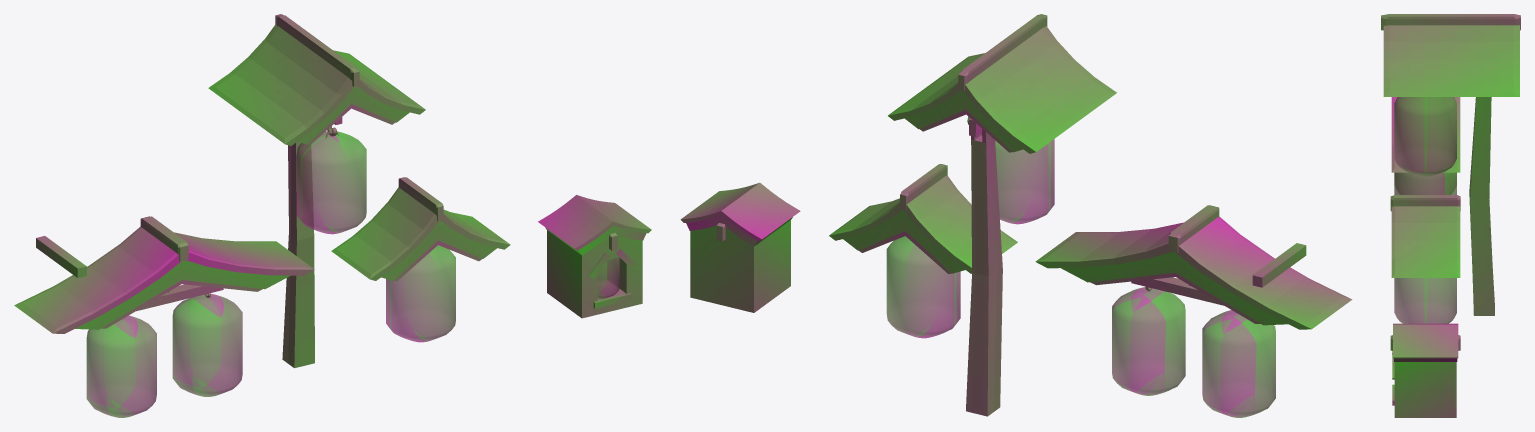
File: China_lampEX.obj
The picture shows the model from 3 angles, left to right: view 1: azimuth 30°, elevation 25°; view 2: azimuth 150°, elevation 25°; view 3: azimuth 270°, elevation 25°; orthographic projection. The views are drawn at different scales.
Parts seen in each view (by area): view 1: China_lamp_mini_2ea_Circle.000, China_lamp_mini_Cube.006, China_lamp_mini.004_Cube.021, F3_roof_Plane.004, China_lamp_mini.005_Cube.020, Cube.001_Cube.018, ConnectWood_Cube.001, Lamp.001_Circle.014; view 2: China_lamp_mini_2ea_Circle.000, China_lamp_mini.004_Cube.021, China_lamp_mini_Cube.006, F3_roof_Plane.004, Cube.001_Cube.018, China_lamp_mini.005_Cube.020, ConnectWood_Cube.001; view 3: China_lamp_mini.004_Cube.021, China_lamp_mini_Cube.006, China_lamp_mini_2ea_Circle.000, F3_roof_Plane.004, China_lamp_mini.005_Cube.020, Cube.001_Cube.018.
Boxes of the visible parts, left/top/right/bottom form: China_lamp_mini_2ea_Circle.000: left=14, top=216, right=314, bottom=417; China_lamp_mini_Cube.006: left=331, top=177, right=510, bottom=342; China_lamp_mini.004_Cube.021: left=208, top=14, right=425, bottom=145; F3_roof_Plane.004: left=538, top=195, right=651, bottom=318; China_lamp_mini.005_Cube.020: left=296, top=130, right=366, bottom=234; Cube.001_Cube.018: left=282, top=142, right=314, bottom=368; ConnectWood_Cube.001: left=36, top=236, right=86, bottom=277; Lamp.001_Circle.014: left=597, top=257, right=619, bottom=299; China_lamp_mini_2ea_Circle.000: left=1035, top=205, right=1352, bottom=417; China_lamp_mini.004_Cube.021: left=888, top=14, right=1116, bottom=153; China_lamp_mini_Cube.006: left=829, top=164, right=1017, bottom=338; F3_roof_Plane.004: left=680, top=182, right=800, bottom=312; Cube.001_Cube.018: left=966, top=116, right=1002, bottom=416; China_lamp_mini.005_Cube.020: left=995, top=139, right=1054, bottom=224; ConnectWood_Cube.001: left=1252, top=243, right=1306, bottom=287; China_lamp_mini.004_Cube.021: left=1381, top=14, right=1520, bottom=96; China_lamp_mini_Cube.006: left=1390, top=195, right=1460, bottom=323; China_lamp_mini_2ea_Circle.000: left=1391, top=97, right=1460, bottom=194; F3_roof_Plane.004: left=1390, top=323, right=1460, bottom=417; China_lamp_mini.005_Cube.020: left=1394, top=97, right=1456, bottom=176; Cube.001_Cube.018: left=1469, top=97, right=1494, bottom=315.
Bounding box in the file's own units: 19.81 × 10.51 × 4.5.
5 materials, 5 textured.
